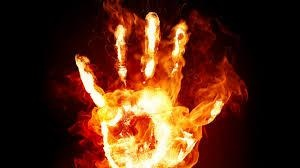fire: (77, 11, 241, 167), (141, 10, 160, 78)
